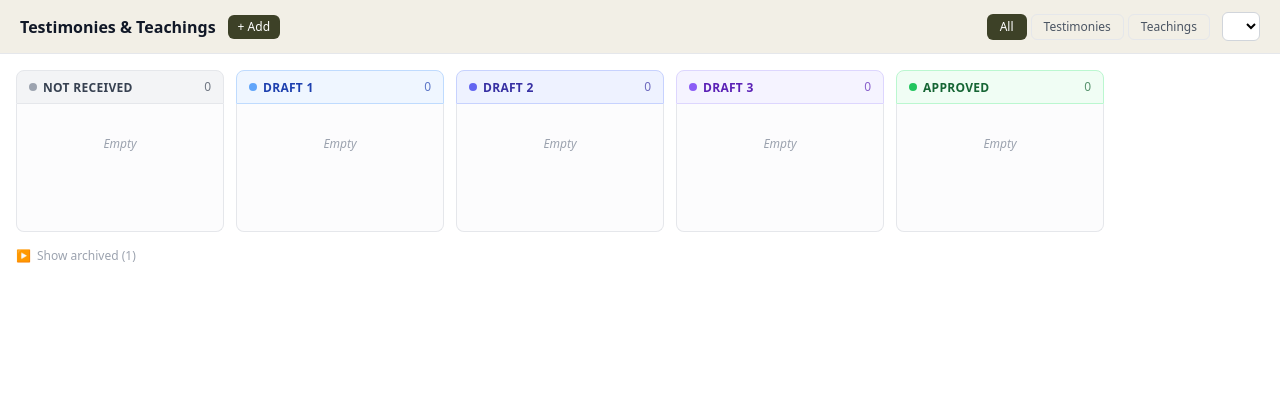
Scenario: Testimonies Kanban — archived section › shows archived items when toggle clicked
Click the button "▶ Show archived (1)". click: (76, 256)
box: [16, 248, 136, 264]
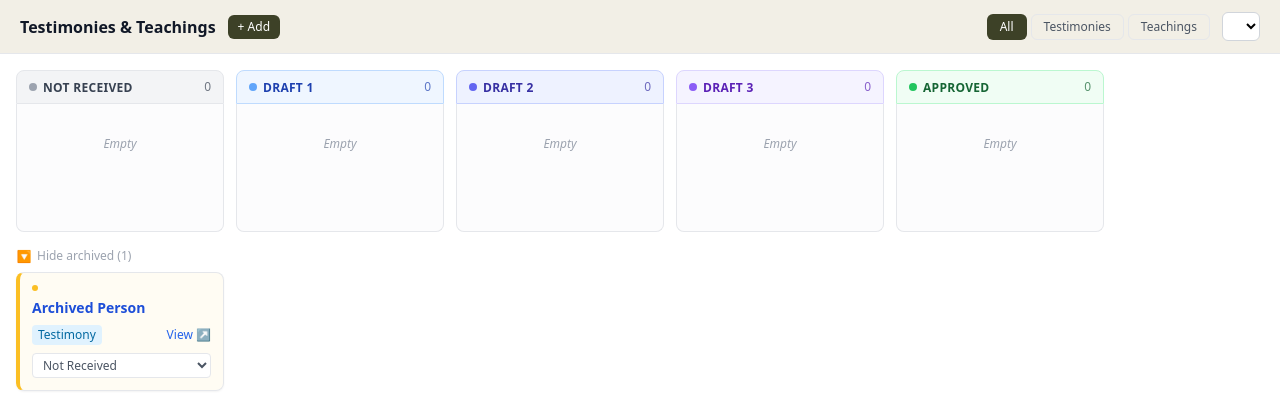
Result: the link "Archived Person" is shown at [32, 298, 145, 317]
